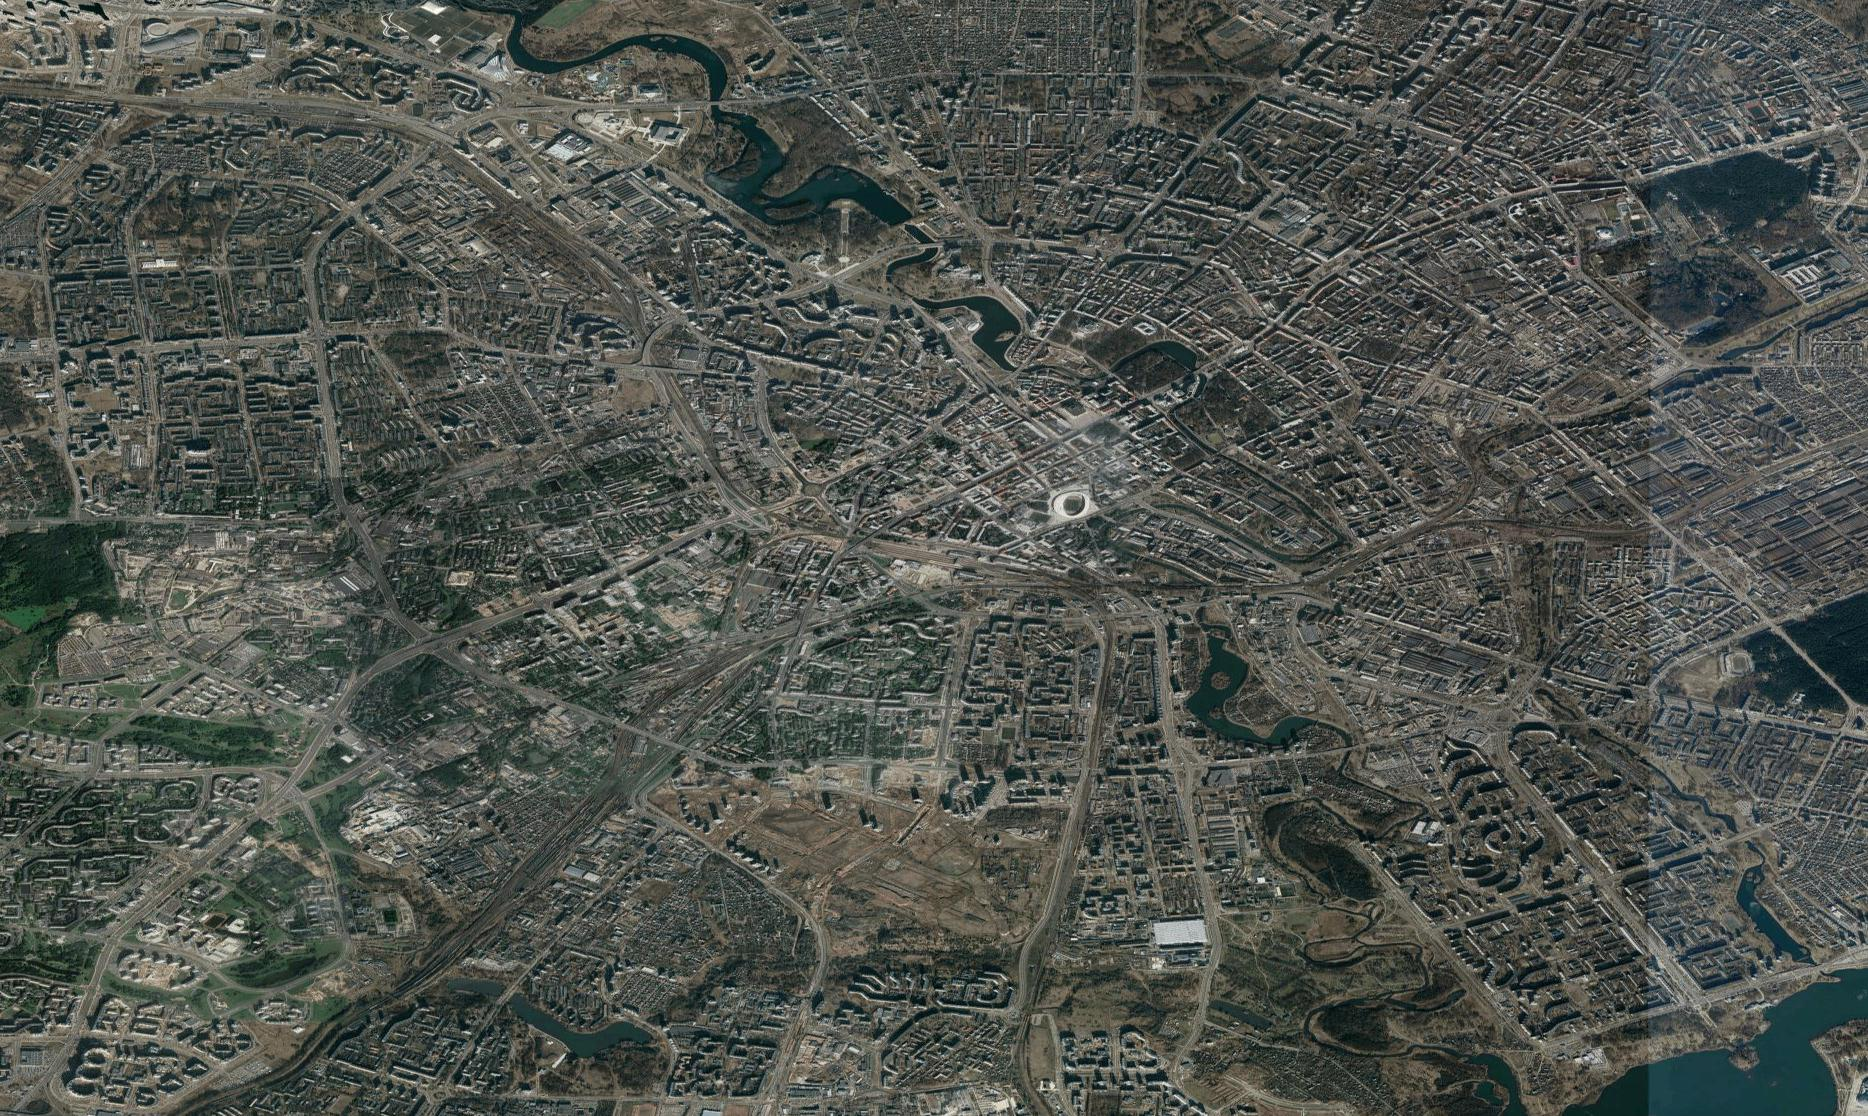bridge: (642, 365, 683, 379), (794, 619, 805, 650)
train_station: (869, 534, 1039, 589)
